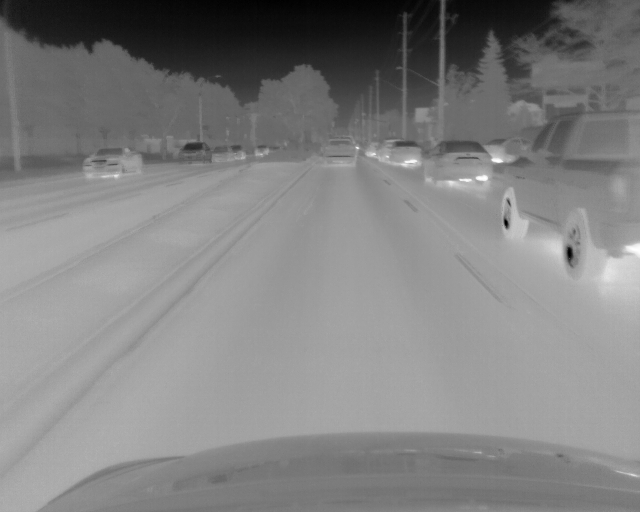car: (498, 110, 640, 281), (422, 140, 491, 186), (83, 146, 144, 179), (324, 138, 356, 164), (177, 141, 211, 164), (389, 140, 421, 164), (211, 145, 233, 161), (378, 139, 391, 164), (233, 144, 246, 160), (255, 145, 269, 156)
